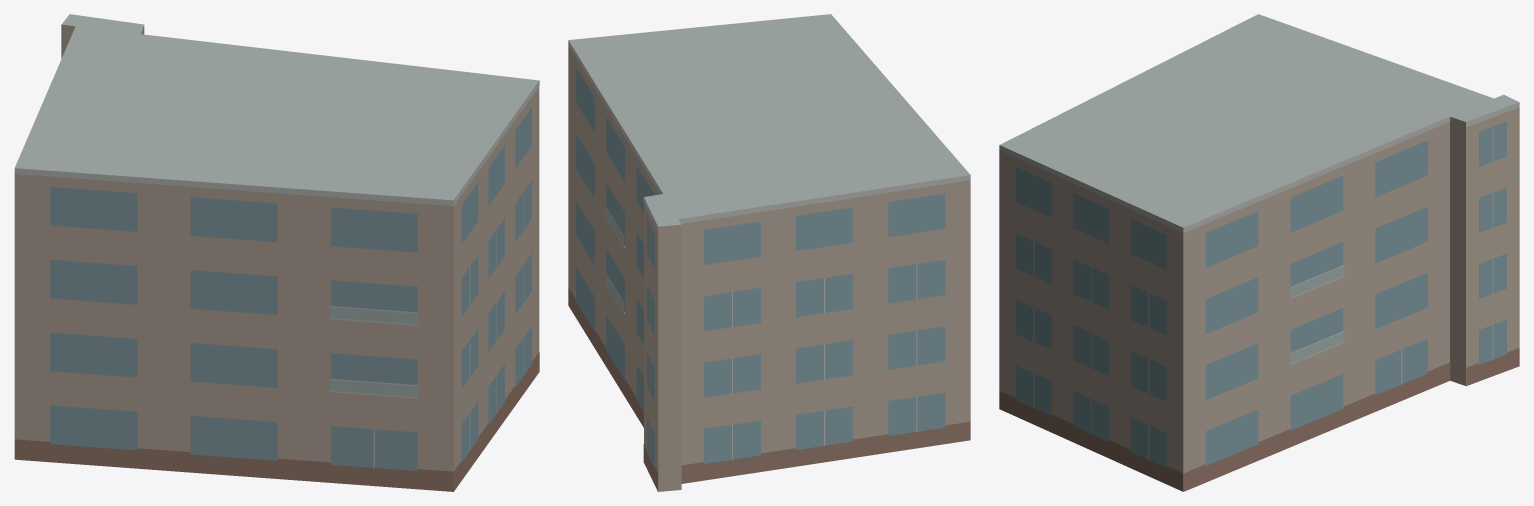
Rendered from survey-upis-32999720.glb.
3 views of the same model, side by side, from view 1: azimuth 30°, elevation 25°; view 2: azimuth 150°, elevation 25°; view 3: azimuth 270°, elevation 25° (orthographic). The views are drawn at different scales.
Parts seen in each view (by area): view 1: survey-upis-32999720.tmp; view 2: survey-upis-32999720.tmp; view 3: survey-upis-32999720.tmp.
Boxes of the visible parts, bbox=[...] form: survey-upis-32999720.tmp: bbox=[14, 14, 539, 491]; survey-upis-32999720.tmp: bbox=[568, 14, 970, 491]; survey-upis-32999720.tmp: bbox=[999, 14, 1519, 491].
Size of the model in its own units: 21.19 by 12.2 by 21.78.
